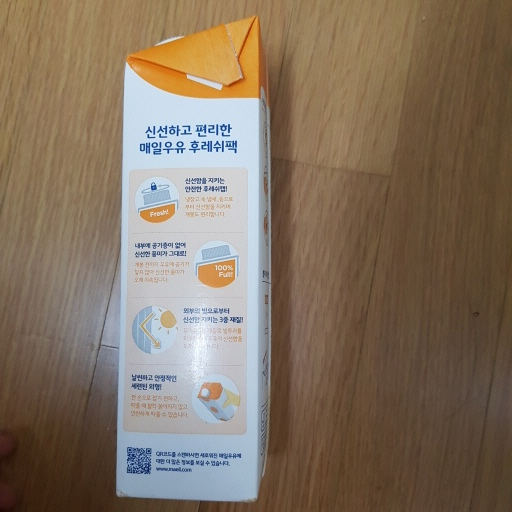Paper_0: (107, 17, 271, 512)
